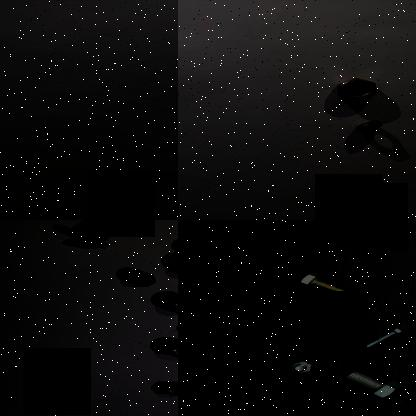Bolts: (342, 361, 404, 404), (294, 269, 350, 300), (76, 220, 128, 251), (361, 322, 403, 350), (288, 356, 316, 377)
NUTS: (314, 74, 390, 110), (342, 118, 388, 140), (126, 272, 158, 292), (155, 378, 178, 398), (158, 336, 178, 358), (160, 292, 178, 316)
